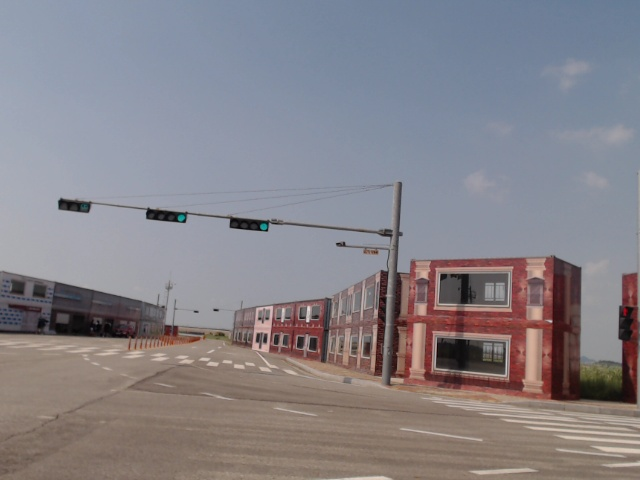straight_green_4: (229, 216, 270, 232), (146, 208, 187, 223)
